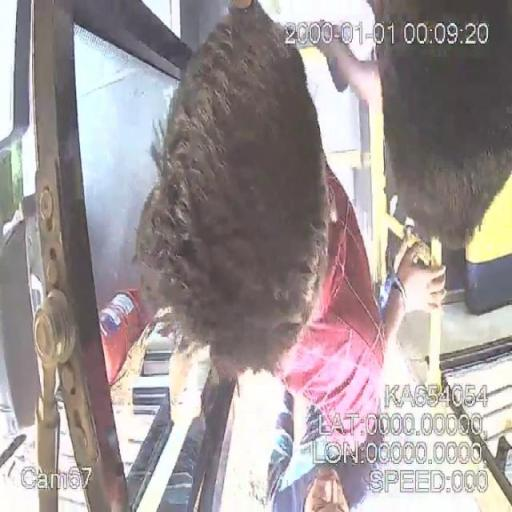persona: (130, 1, 450, 441), (246, 382, 386, 512)
